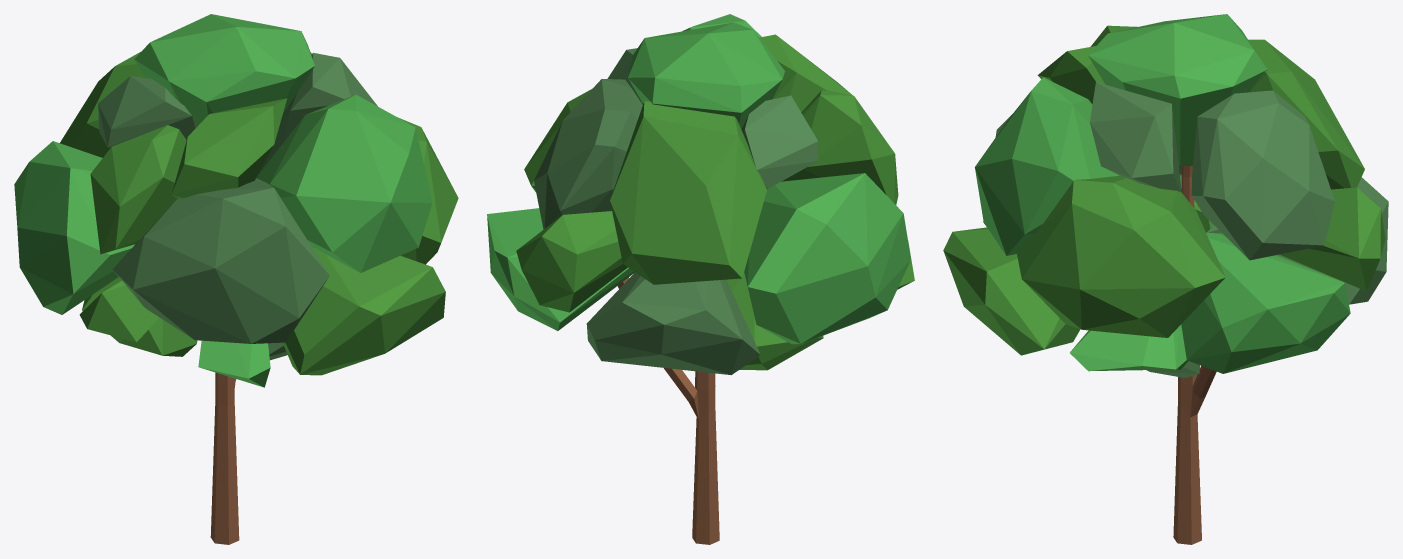
Rendered from tree_2.fbx.
3 renders of one model, left to right at view 1: azimuth 30°, elevation 25°; view 2: azimuth 150°, elevation 25°; view 3: azimuth 270°, elevation 25°, orthographic. The views are drawn at different scales.
Visible parts, largest first — view 1: Tree Variant 2; view 2: Tree Variant 2; view 3: Tree Variant 2.
Boxes of the visible parts, x1,y1,x2,y2 form: Tree Variant 2: [14, 14, 458, 544]; Tree Variant 2: [487, 14, 914, 544]; Tree Variant 2: [943, 14, 1388, 544].
Size of the model in its own units: 2.52 by 3.26 by 2.54.
